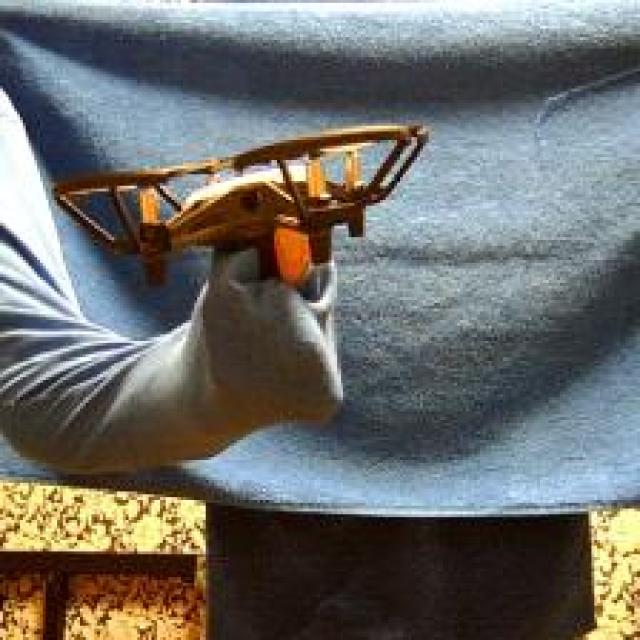drone: (50, 119, 433, 270)
